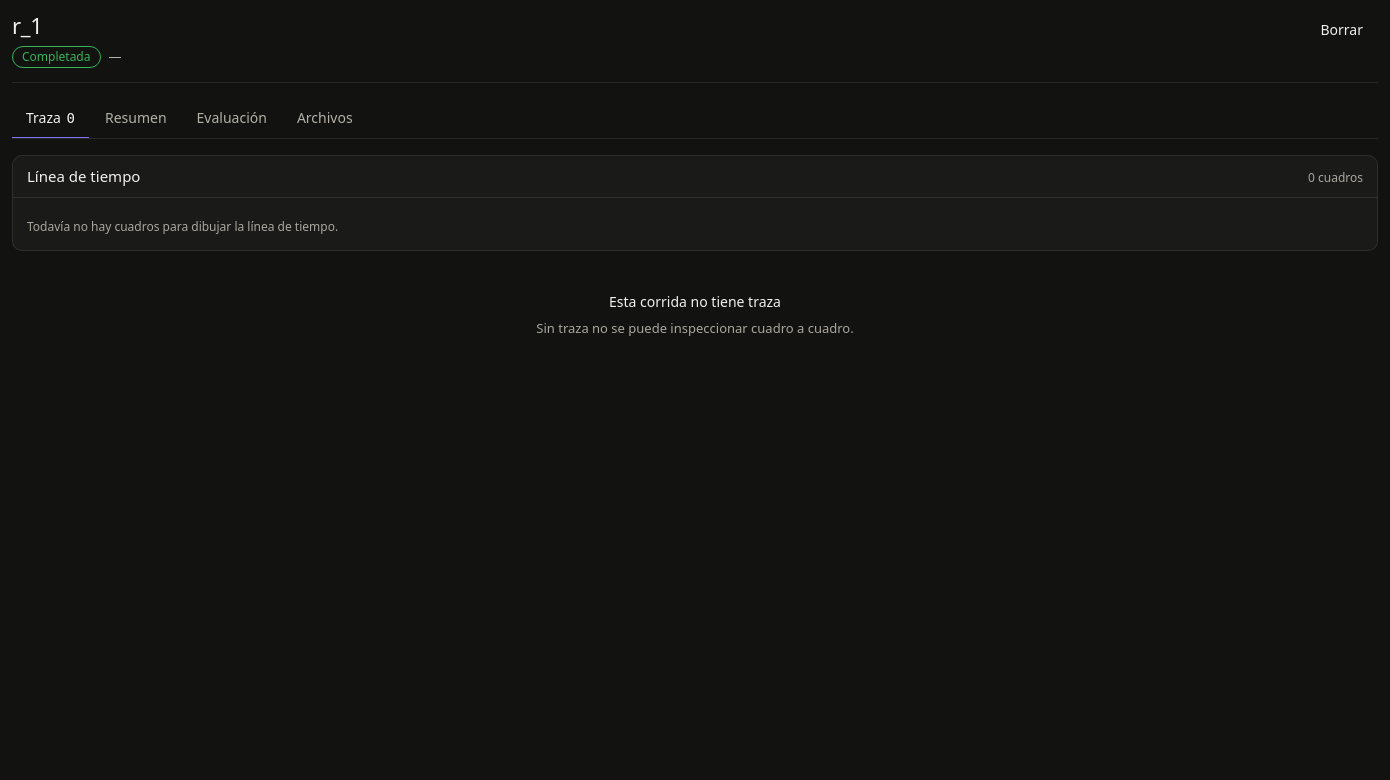
Scenario: RunDetailPage › las pestañas separan traza, resumen, evaluación y archivos
expect the tab "Traza 0" is shown: met, box [12, 98, 89, 138]
Click the tab "Resumen": (136, 118) [91, 98, 181, 138]
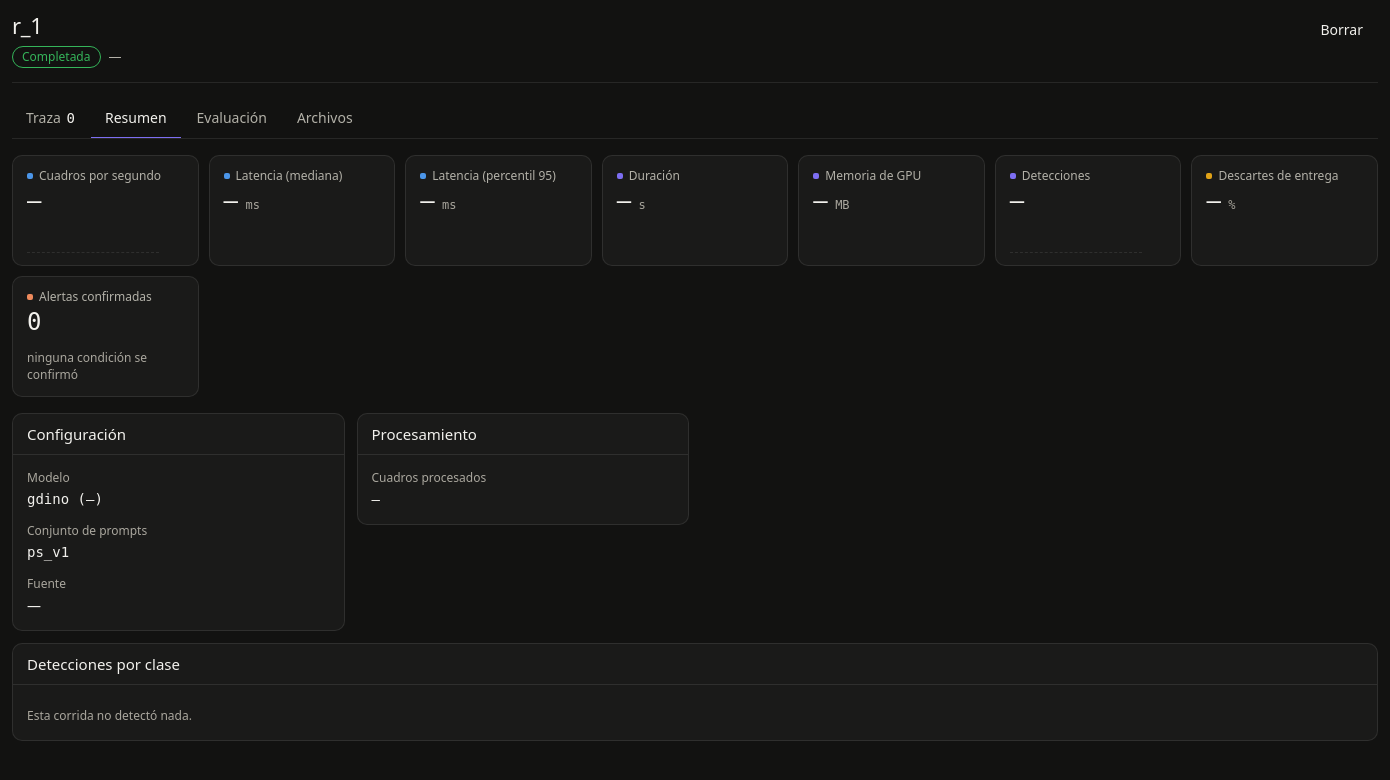
expect the text "Conjunto de prompts" is shown: met, box [27, 522, 147, 539]
expect the text "ps_v1" is shown: met, box [27, 544, 69, 560]
